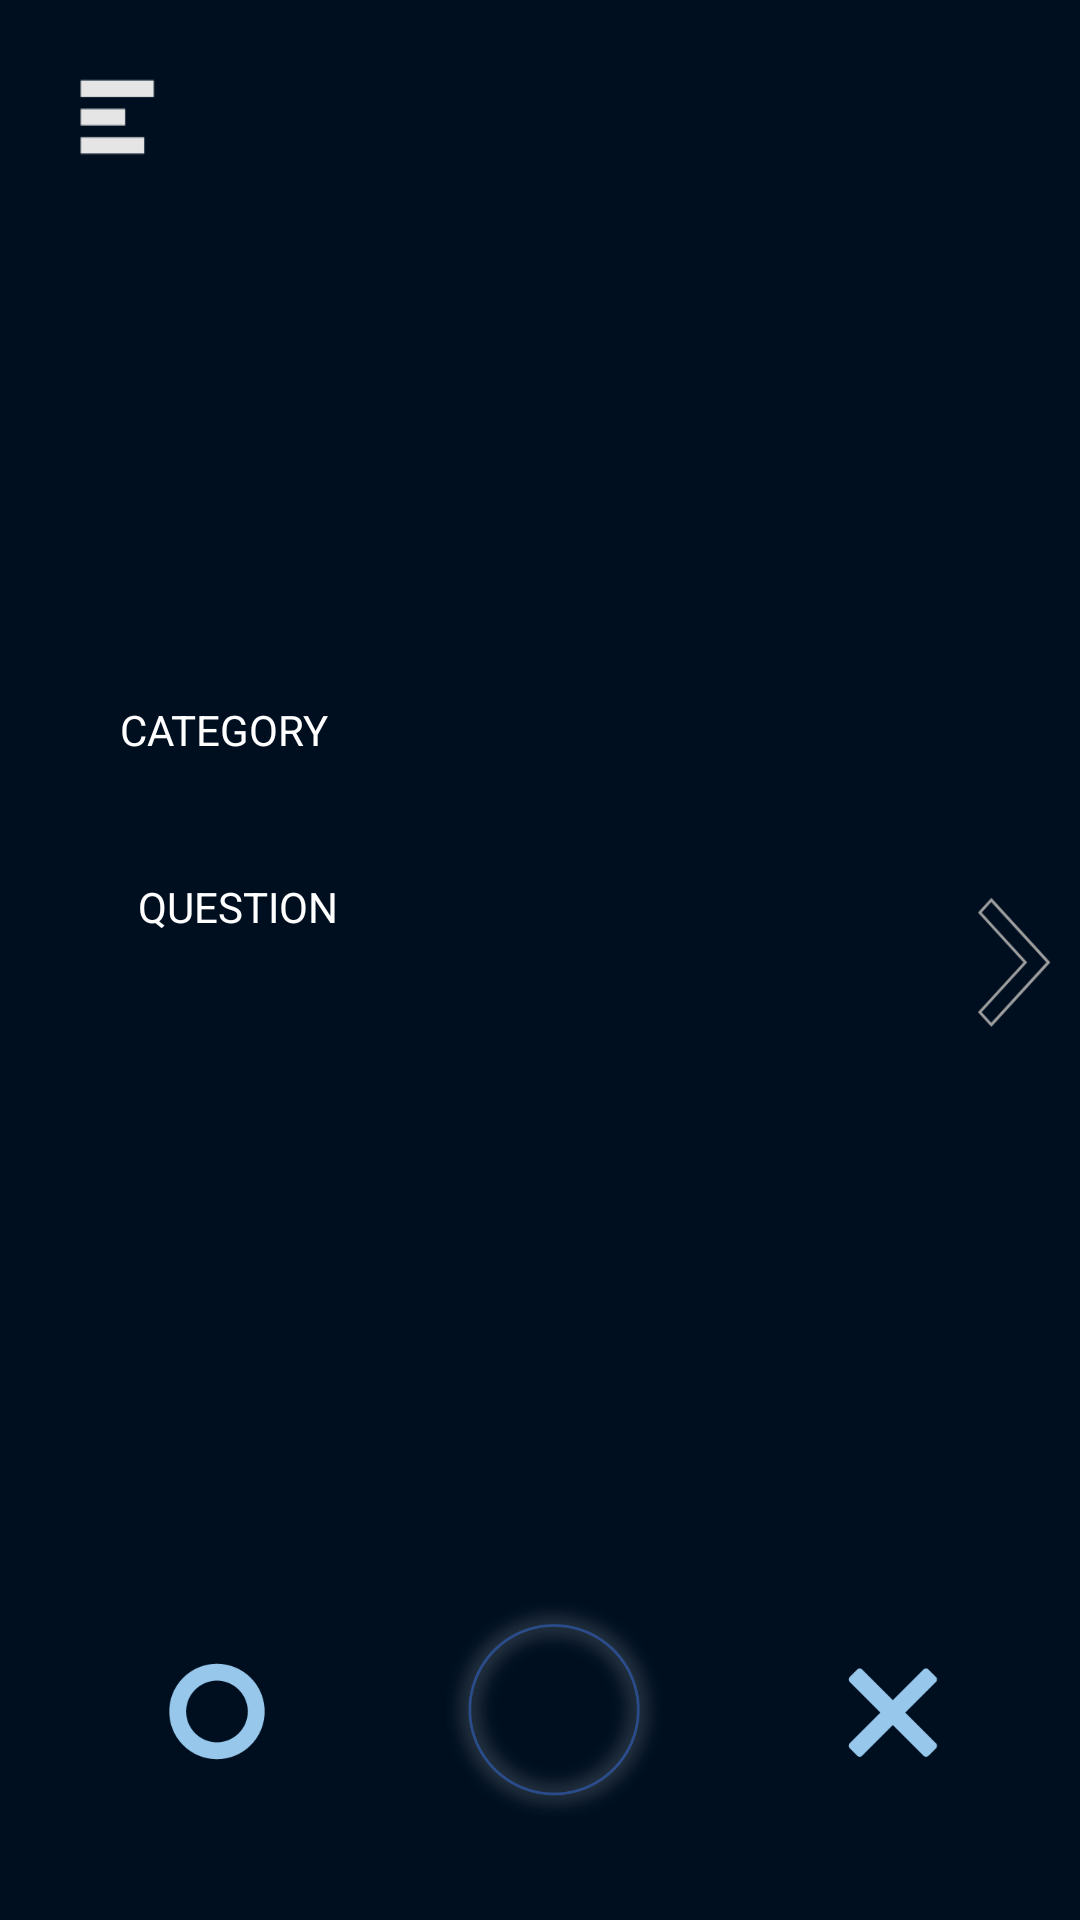

Icons on this 1080*1920 Android screen, each with its box as {"x1": x1, "y1": y1, "x2": x2, "y2": y2}:
to right: {"x1": 978, "y1": 898, "x2": 1050, "y2": 1027}
upper menu: {"x1": 80, "y1": 79, "x2": 155, "y2": 155}
